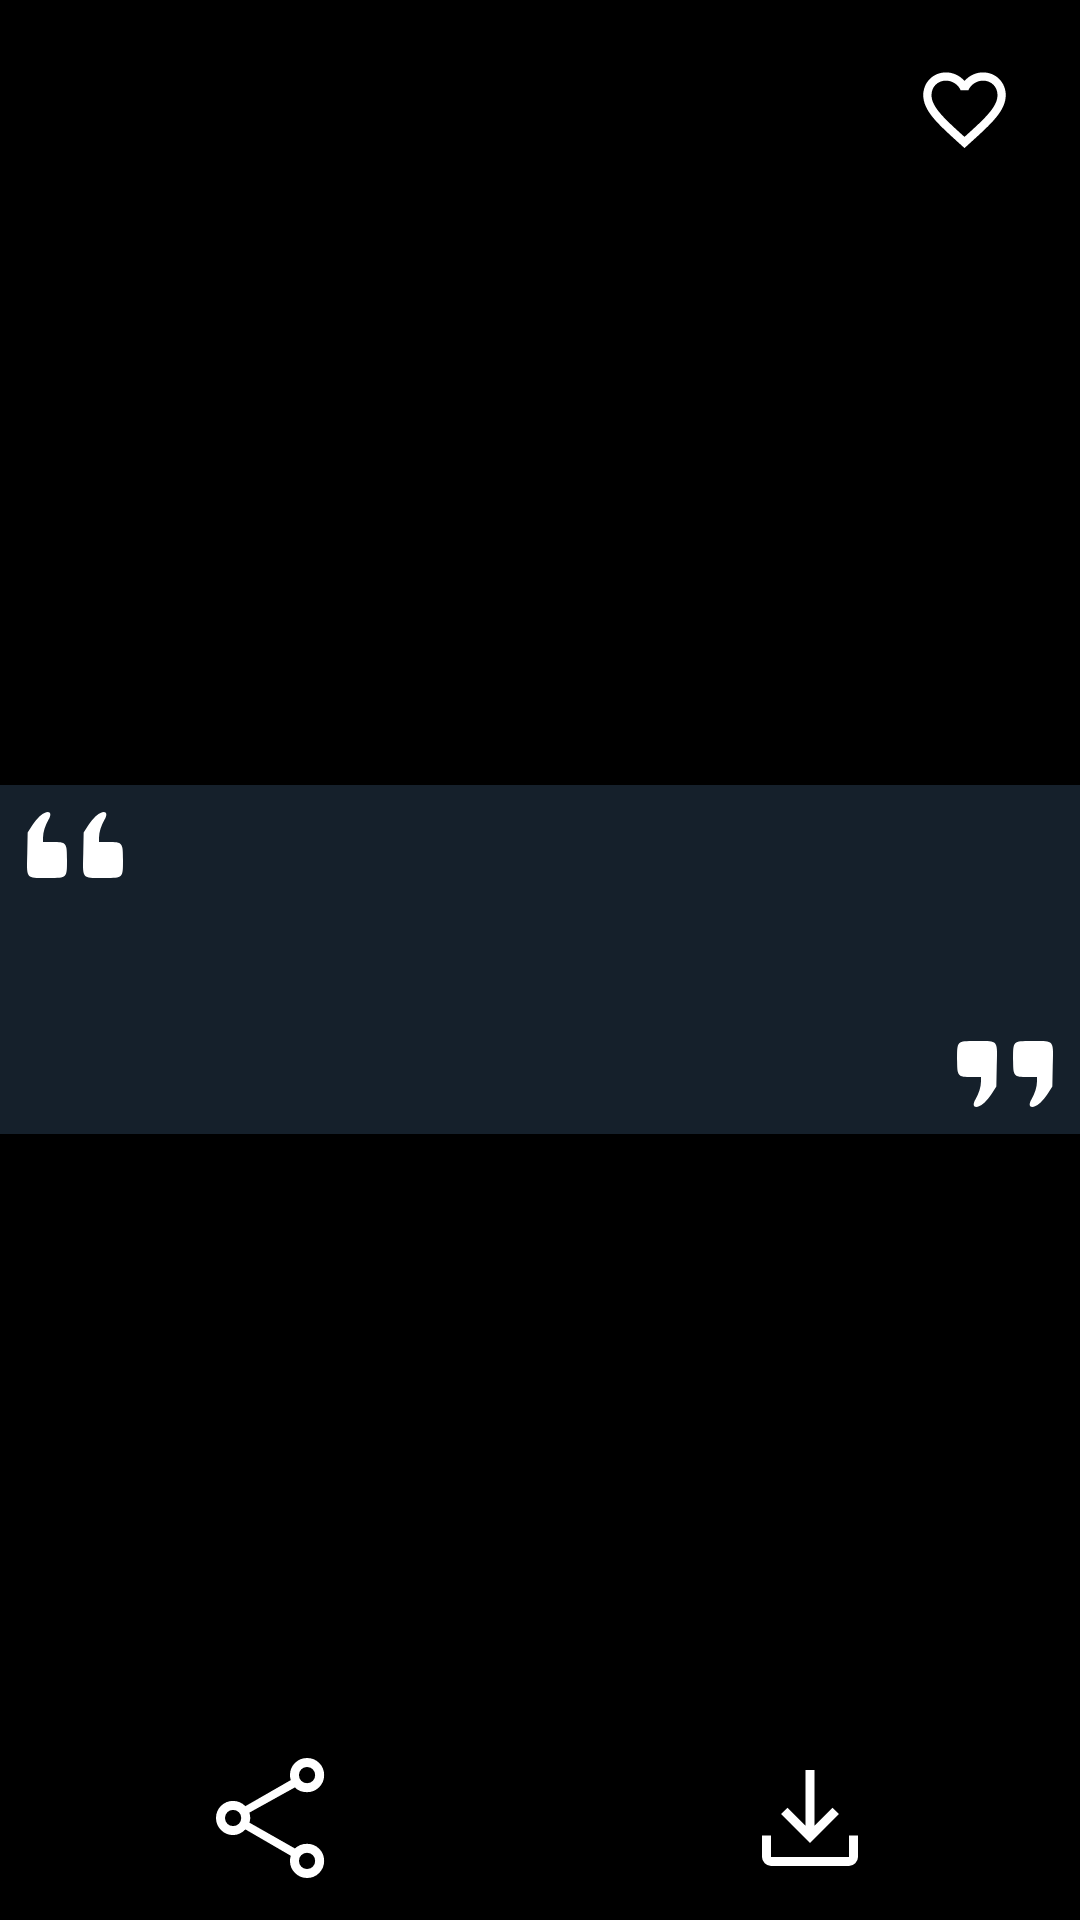

Icon bounding boxes for this 1080 × 1920 phone screenshot, format (x1, y1, x2, y2):
favourite quote empty: (923, 72, 1006, 148)
file download: (762, 1770, 858, 1866)
share: (216, 1758, 324, 1878)
